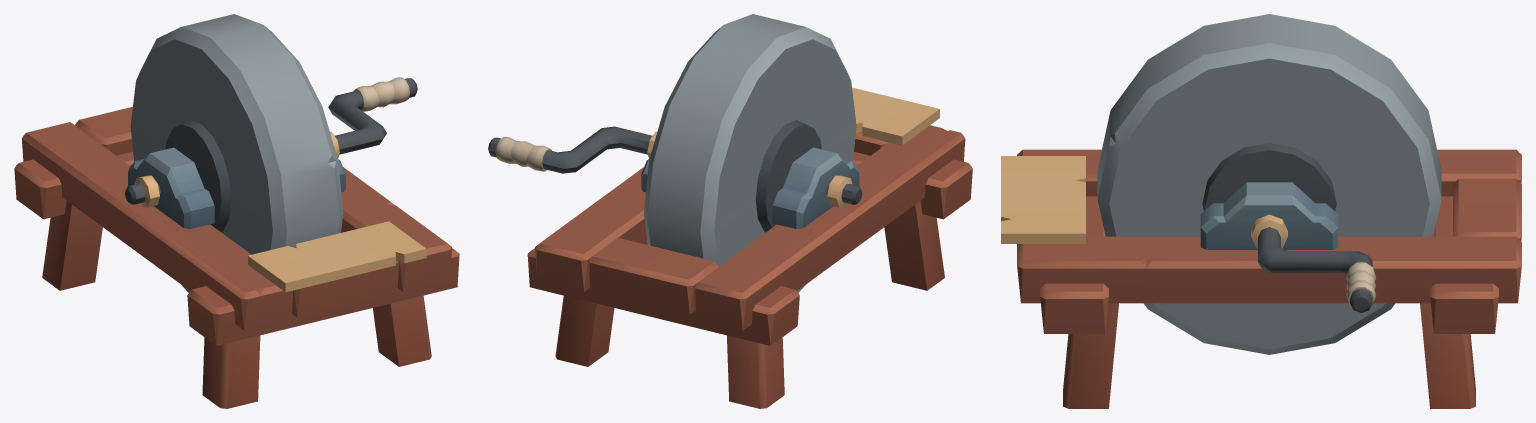
Rendered from slipsten.glb.
3 renders of one model, left to right at view 1: azimuth 30°, elevation 25°; view 2: azimuth 150°, elevation 25°; view 3: azimuth 270°, elevation 25°, orthographic. The views are drawn at different scales.
Parts seen in each view (by area): view 1: grindstone, grindstone_wheel; view 2: grindstone, grindstone_wheel; view 3: grindstone_wheel, grindstone.
Part boxes in pixels (<box>): grindstone: <box>14,106,459,408</box>; grindstone_wheel: <box>125,14,417,292</box>; grindstone: <box>527,87,972,408</box>; grindstone_wheel: <box>488,14,862,292</box>; grindstone_wheel: <box>1097,14,1441,354</box>; grindstone: <box>1001,149,1521,408</box>.
Bounding box in the file's own units: 1.94 × 1.55 × 2.27.
1 material, 1 textured.
